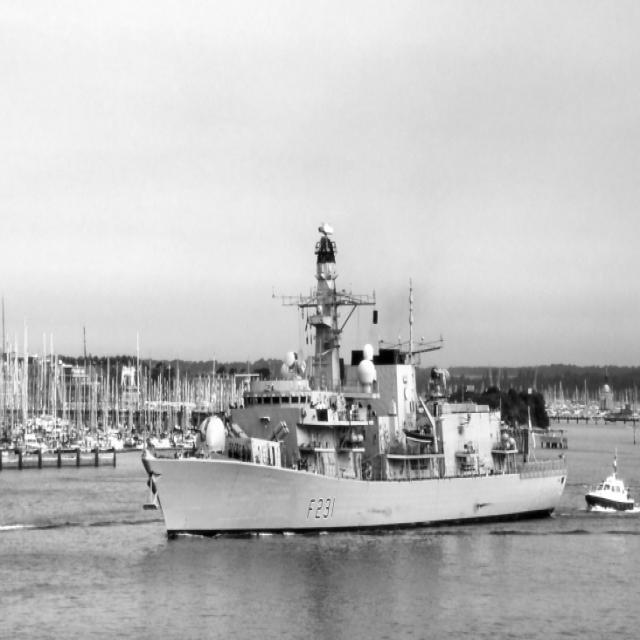Fragata: (141, 227, 574, 543)
